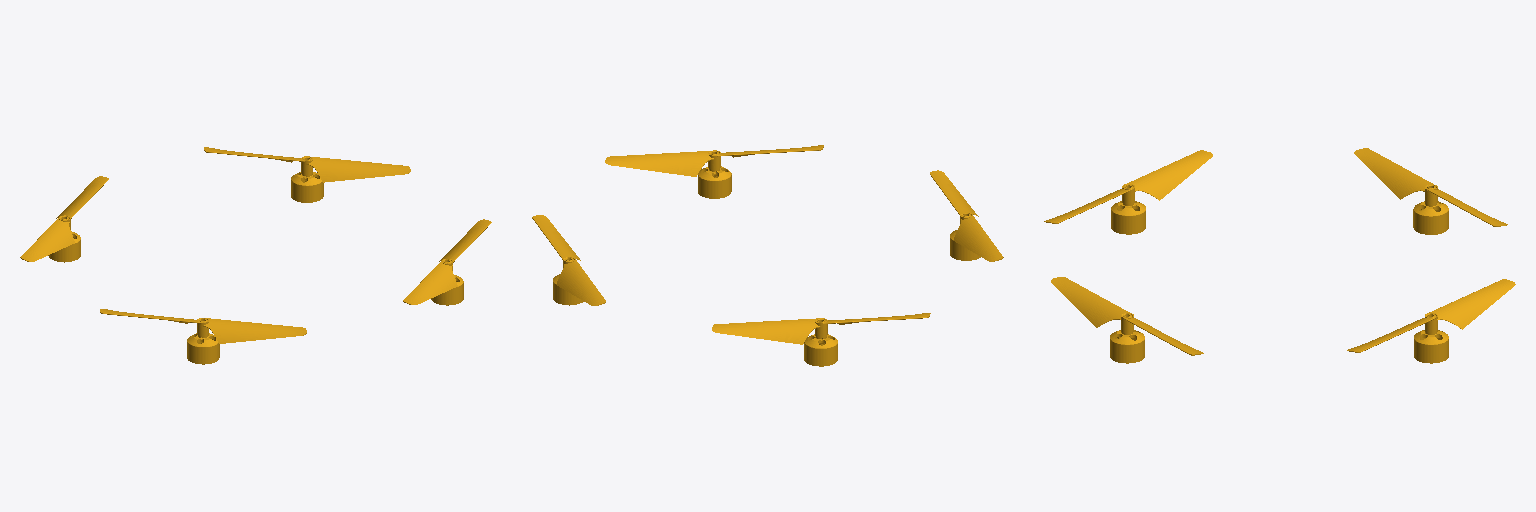
URDF robot description (drone):
<?xml version="1.0"?>
<robot name="drone">
<link name="base_link">
<visual>
<origin xyz="-0.010922405541071378288 -0.050687372808196712315 0.0082303361216907733322" rpy="0 -0 0" />
<geometry>
<mesh filename="package://drone_description/drone1/base.stl"/>
</geometry>
<material name="base_material">
<color rgba="0.34901960784313723618 0.37647058823529411242 0.4000000000000000222 1.0"/>
</material>
</visual>
<collision>
<origin xyz="-0.010922405541071378288 -0.050687372808196712315 0.0082303361216907733322" rpy="0 -0 0" />
<geometry>
<mesh filename="package://drone_description/drone1/base.stl"/>
</geometry>
</collision>
<inertial>
<origin xyz="0.0020193639985476314475 -0.04797210447996088506 -0.054438384411374975136" rpy="0 0 0"/>
<mass value="2.9865324996216551234" />
<inertia ixx="0.0076214365330443808663" ixy="7.1210927761971377534e-07"  ixz="-0.00020473517711343844176" iyy="0.0098111566164555286812" iyz="-3.5421189706239930048e-06" izz="0.015371407582968491315" />
</inertial>
</link>

<link name="m2">
<visual>
<origin xyz="-0.10725912314167362904 0.11437019281877841559 -0.045263863433265959235" rpy="-3.141592628495006867 -1.7595318036328844588e-08 -2.4868903667608668032e-33" />
<geometry>
<mesh filename="package://drone_description/drone1/m2.stl"/>
</geometry>
<material name="m2_material">
<color rgba="0.90980392156862743835 0.67843137254901964006 0.1372549019607843257 1.0"/>
</material>
</visual>
<collision>
<origin xyz="-0.10725912314167362904 0.11437019281877841559 -0.045263863433265959235" rpy="-3.141592628495006867 -1.7595318036328844588e-08 -2.4868903667608668032e-33" />
<geometry>
<mesh filename="package://drone_description/drone1/m2.stl"/>
</geometry>
</collision>
<inertial>
<origin xyz="5.2654240606797575452e-06 -5.2164378350758542005e-06 -0.021069698945348696445" rpy="0 0 0"/>
<mass value="0.049861849725314696946" />
<inertia ixx="2.3940760765368335932e-05" ixy="-1.6932394712484813876e-05"  ixz="-5.8951667486996619654e-10" iyy="2.5426849844098468623e-05" iyz="6.1193920654251661781e-10" izz="3.7913165632625183657e-05" />
</inertial>
</link>

<joint name="m1" type="continuous">
<origin xyz="-0.11579456795951663384 -0.16606229050820392468 -0.040486588822067667848" rpy="3.141592628495006867 -1.7595318159740281071e-08 4.4155075239452205801e-16" />
<parent link="base_link" />
<child link="m2" />
<axis xyz="0 0 1"/>
<joint_properties friction="0.0"/>
</joint>

<link name="m1">
<visual>
<origin xyz="0.1309088489691626056 0.11425459977510671328 -0.066263863433265984826" rpy="-3.141592628495006867 -1.7595318083729592483e-08 1.4677023703282848958e-32" />
<geometry>
<mesh filename="package://drone_description/drone1/m1.stl"/>
</geometry>
<material name="m1_material">
<color rgba="0.90980392156862743835 0.67843137254901964006 0.1372549019607843257 1.0"/>
</material>
</visual>
<collision>
<origin xyz="0.1309088489691626056 0.11425459977510671328 -0.066263863433265984826" rpy="-3.141592628495006867 -1.7595318083729592483e-08 1.4677023703282848958e-32" />
<geometry>
<mesh filename="package://drone_description/drone1/m1.stl"/>
</geometry>
</collision>
<inertial>
<origin xyz="4.2237630752672838952e-06 6.0931709227416168737e-06 -0.021067970020245265633" rpy="0 0 0"/>
<mass value="0.04984733554438967873" />
<inertia ixx="2.0897559351174610834e-05" ixy="1.651831312562608182e-05"  ixz="-5.0331475382609120472e-10" iyy="2.8461381372270851196e-05" iyz="-6.8375013046015726761e-10" izz="3.7906055084567989407e-05" />
</inertial>
</link>

<joint name="m4" type="continuous">
<origin xyz="0.12312849079376703143 -0.16704747399866010094 -0.040486584593417744571" rpy="3.141592628495006867 -1.7595317991062034075e-08 4.4155074919600357487e-16" />
<parent link="base_link" />
<child link="m1" />
<axis xyz="0 0 1"/>
<joint_properties friction="0.0"/>
</joint>

<link name="m2_2">
<visual>
<origin xyz="-0.10725912314167367068 0.11437019281877838783 -0.045263863433265959235" rpy="-3.141592628495006867 -1.7595318036328844588e-08 -4.379057701015054319e-47" />
<geometry>
<mesh filename="package://drone_description/drone1/m2.stl"/>
</geometry>
<material name="m2_material">
<color rgba="0.90980392156862743835 0.67843137254901964006 0.1372549019607843257 1.0"/>
</material>
</visual>
<collision>
<origin xyz="-0.10725912314167367068 0.11437019281877838783 -0.045263863433265959235" rpy="-3.141592628495006867 -1.7595318036328844588e-08 -4.379057701015054319e-47" />
<geometry>
<mesh filename="package://drone_description/drone1/m2.stl"/>
</geometry>
</collision>
<inertial>
<origin xyz="5.2654240606381241818e-06 -5.2164378351036097762e-06 -0.021069698945348696445" rpy="0 0 0"/>
<mass value="0.049861849725314696946" />
<inertia ixx="2.3940760765368335932e-05" ixy="-1.6932394712484813876e-05"  ixz="-5.8951667486996619654e-10" iyy="2.5426849844098468623e-05" iyz="6.1193920654251661781e-10" izz="3.7913165632625183657e-05" />
</inertial>
</link>

<joint name="m3" type="continuous">
<origin xyz="0.12312849224315275398 0.071004267596130904439 -0.040486590567275132502" rpy="3.141592628495006867 -1.7595318036328834662e-08 4.4155074836731327976e-16" />
<parent link="base_link" />
<child link="m2_2" />
<axis xyz="0 0 1"/>
<joint_properties friction="0.0"/>
</joint>

<link name="m1_2">
<visual>
<origin xyz="0.13090884896916263336 0.11425459977510671328 -0.066263863433265984826" rpy="-3.141592628495006867 -1.7595318083729592483e-08 5.6986853119143905553e-33" />
<geometry>
<mesh filename="package://drone_description/drone1/m1.stl"/>
</geometry>
<material name="m1_material">
<color rgba="0.90980392156862743835 0.67843137254901964006 0.1372549019607843257 1.0"/>
</material>
</visual>
<collision>
<origin xyz="0.13090884896916263336 0.11425459977510671328 -0.066263863433265984826" rpy="-3.141592628495006867 -1.7595318083729592483e-08 5.6986853119143905553e-33" />
<geometry>
<mesh filename="package://drone_description/drone1/m1.stl"/>
</geometry>
</collision>
<inertial>
<origin xyz="4.2237630752950394708e-06 6.0931709227416168737e-06 -0.021067970020245265633" rpy="0 0 0"/>
<mass value="0.04984733554438967873" />
<inertia ixx="2.0897559351174610834e-05" ixy="1.651831312562608182e-05"  ixz="-5.0331475382609120472e-10" iyy="2.8461381372270851196e-05" iyz="-6.8375013046015726761e-10" izz="3.7906055084567989407e-05" />
</inertial>
</link>

<joint name="m2" type="continuous">
<origin xyz="-0.11503947986768138512 0.070888674552459035594 -0.040486594755015530012" rpy="3.141592628495006867 -1.7595318106301534911e-08 4.415507508303435102e-16" />
<parent link="base_link" />
<child link="m1_2" />
<axis xyz="0 0 1"/>
<joint_properties friction="0.0"/>
</joint>


</robot>

--- Render facts (derived) ---
3 views of the same robot in one strip: view 1: azimuth 30°, elevation 25°; view 2: azimuth 150°, elevation 25°; view 3: azimuth 270°, elevation 25° (orthographic).
Robot: drone — 5 links, 4 joints (4 continuous); root link base_link; default pose: all joints at 0.
Links seen in each view (by area): view 1: m2_2, m2, m1_2, m1; view 2: m1_2, m1, m2, m2_2; view 3: m2, m2_2, m1_2, m1.
Link boxes in pixels (left/top/right/bottom): m2_2: left=204, top=147, right=410, bottom=202; m2: left=100, top=309, right=306, bottom=364; m1_2: left=20, top=176, right=108, bottom=262; m1: left=403, top=219, right=491, bottom=305; m1_2: left=712, top=313, right=930, bottom=366; m1: left=605, top=145, right=823, bottom=198; m2: left=930, top=170, right=1003, bottom=261; m2_2: left=532, top=215, right=605, bottom=305; m2: left=1044, top=150, right=1212, bottom=234; m2_2: left=1347, top=279, right=1515, bottom=363; m1_2: left=1354, top=148, right=1507, bottom=234; m1: left=1051, top=277, right=1203, bottom=363.
Bounding box of the posed robot: 0.3828 × 0.369 × 0.0413 m (x, y, z).
4 mesh visuals loaded from 3 distinct referenced files (2 binary STL); not drawn: 1 (file found but could not be loaded).